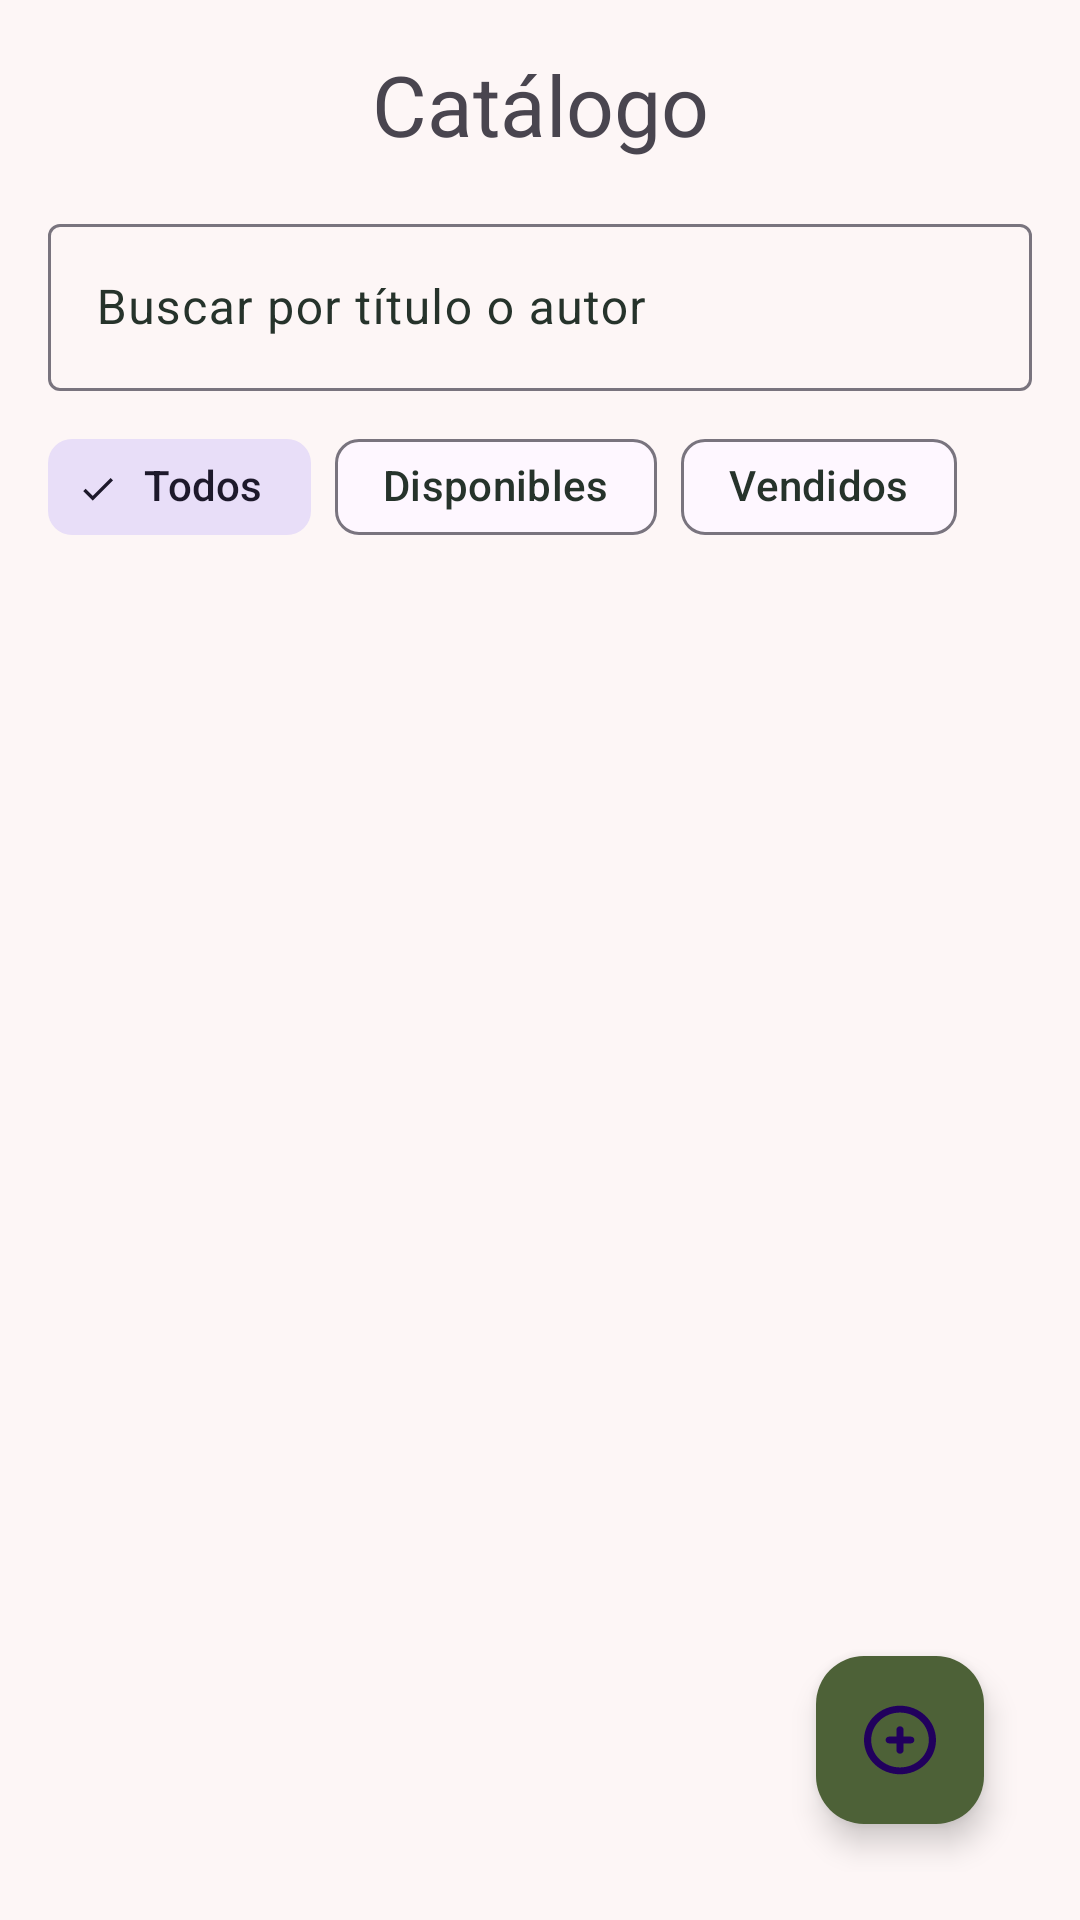

Where to tap for icons on this 1080 x 1920 app screen, as (x=x, y=y):
Añadir libro: (x=900, y=1740)
